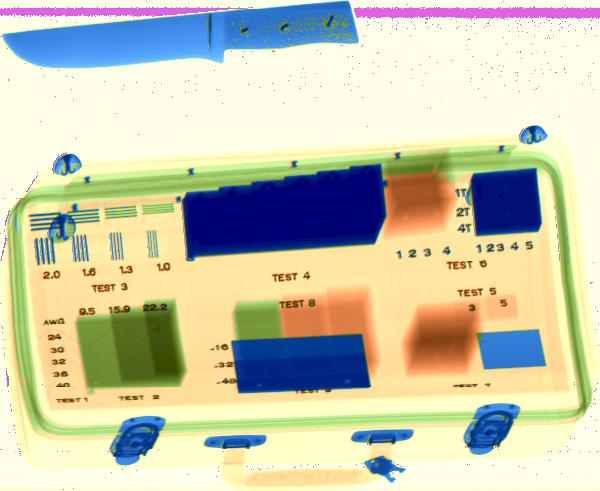Knife: (1, 1, 361, 69)
